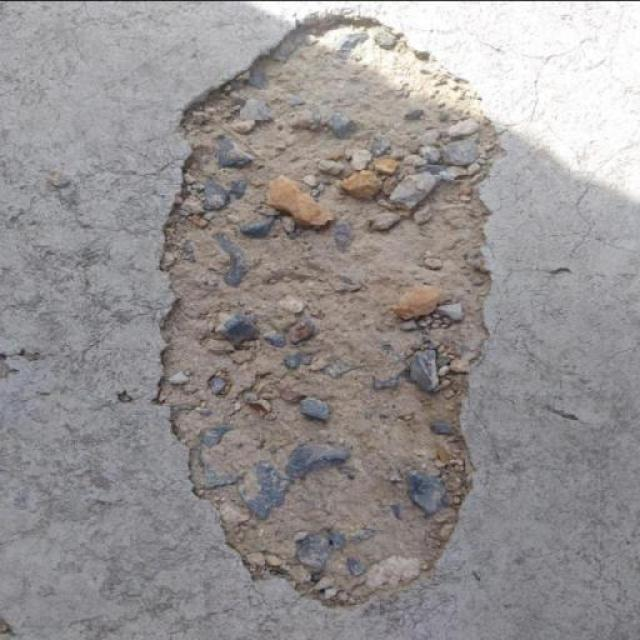D10: (152, 11, 506, 609)
